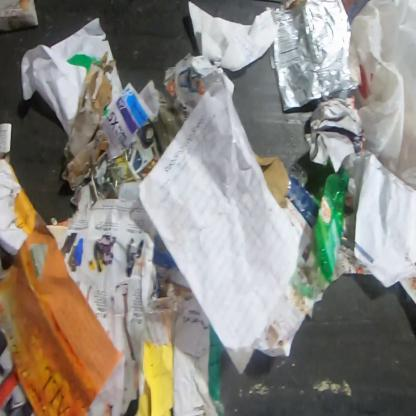cardboard: (64, 53, 118, 192), (254, 154, 290, 205)
rigid_plastic: (313, 169, 351, 284), (280, 161, 321, 244)
soft_plastic: (331, 0, 415, 211), (267, 0, 363, 113)
